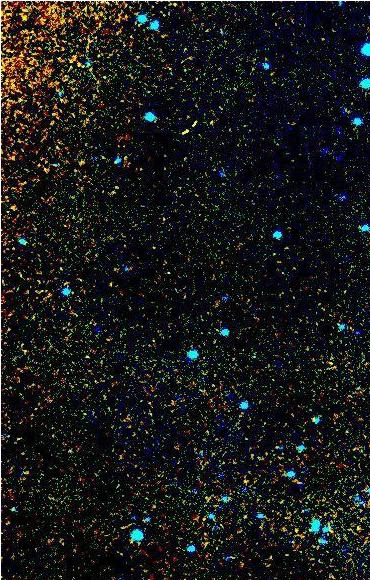star: (229, 472, 259, 502)
